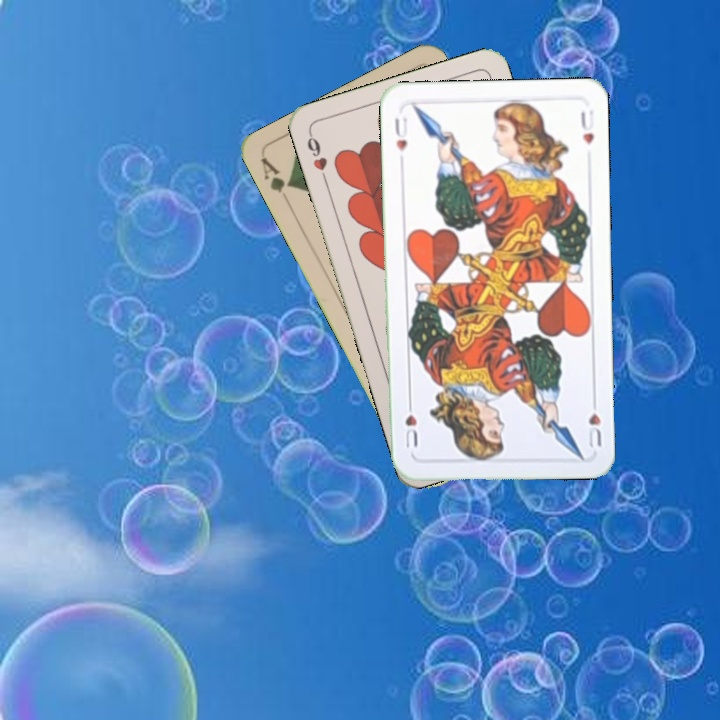GA: (256, 154, 295, 196)
H9: (303, 129, 331, 186)
HU: (581, 393, 604, 450), (391, 113, 410, 154)
